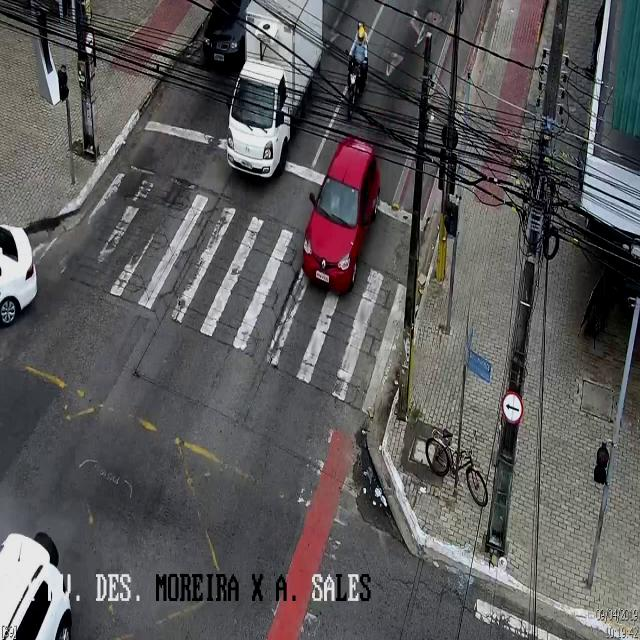Car: (302, 136, 380, 297), (0, 517, 94, 640), (0, 213, 51, 364), (192, 0, 258, 80)
Motorcycle: (344, 22, 366, 122)
Truck: (226, 1, 322, 179)
